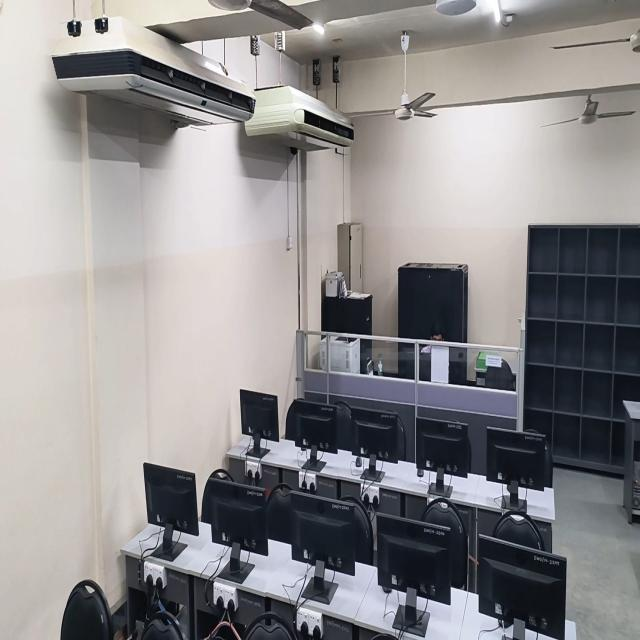Ac: (56, 26, 255, 122), (252, 87, 354, 152)
Chair: (58, 573, 115, 640), (492, 509, 544, 538), (246, 611, 293, 640), (357, 502, 377, 564), (146, 610, 187, 640), (268, 482, 288, 537), (424, 495, 458, 526), (209, 459, 239, 485)
Monitor: (477, 556, 570, 632), (368, 530, 451, 610), (289, 504, 356, 594), (139, 466, 201, 559), (210, 486, 264, 577), (484, 433, 548, 489), (413, 424, 472, 469), (245, 387, 280, 456), (292, 408, 344, 448), (348, 418, 397, 454)
